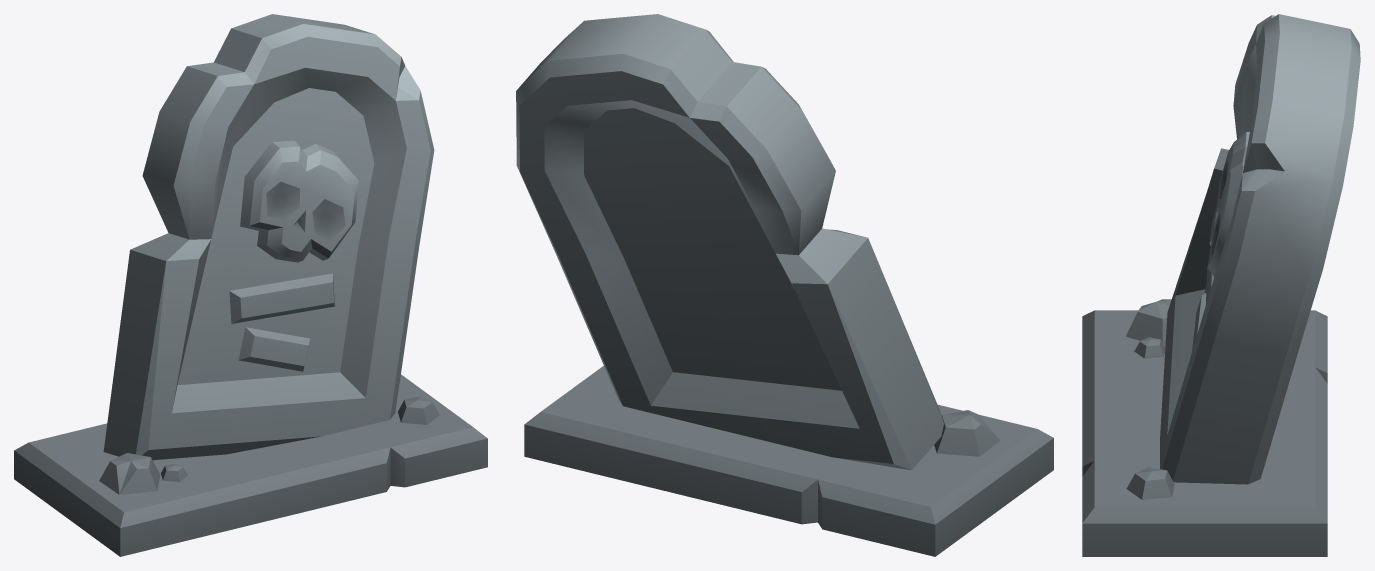
File: grave_A_destroyed.obj
The picture shows the model from 3 angles, left to right: view 1: azimuth 30°, elevation 25°; view 2: azimuth 150°, elevation 25°; view 3: azimuth 270°, elevation 25°; orthographic projection. The views are drawn at different scales.
Visible parts, largest first — view 1: grave_A_destroyed_Cube.105; view 2: grave_A_destroyed_Cube.105; view 3: grave_A_destroyed_Cube.105.
Part boxes in pixels (x1=…): grave_A_destroyed_Cube.105: x1=14, y1=14, x2=487, y2=556; grave_A_destroyed_Cube.105: x1=516, y1=14, x2=1053, y2=556; grave_A_destroyed_Cube.105: x1=1082, y1=14, x2=1360, y2=556.
Size of the model in its own units: 2.08 by 2.11 by 1.14.
1 material, 1 textured.
